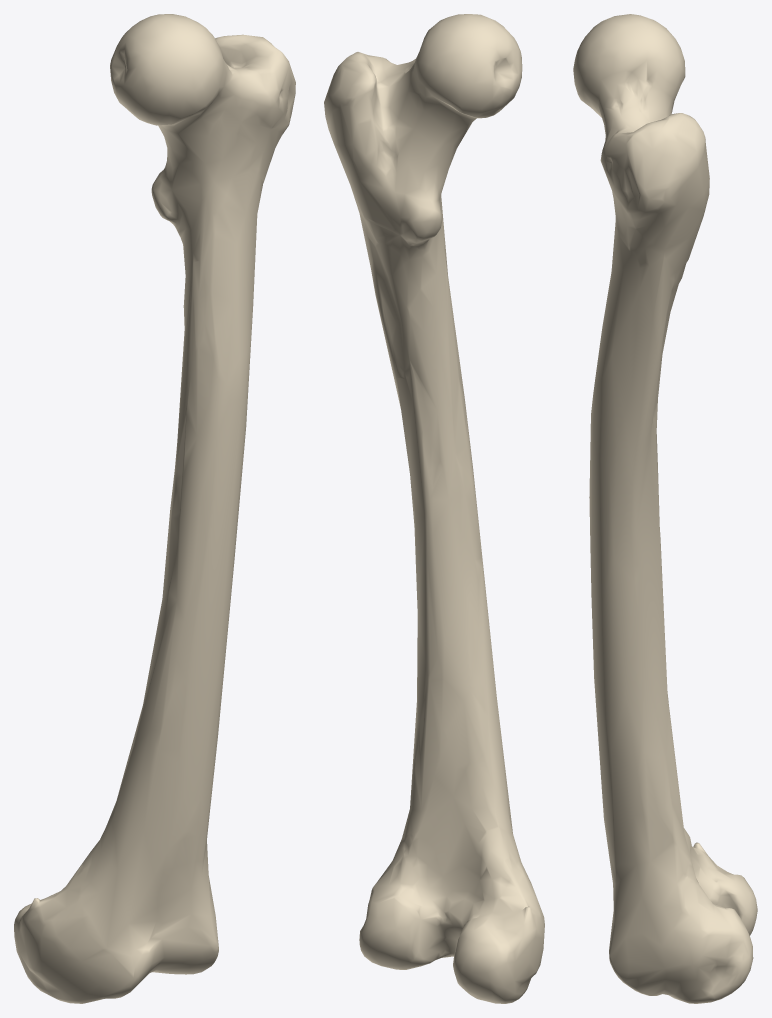
Rendered from femur-l.glb.
The picture shows the model from 3 angles, left to right: view 1: azimuth 30°, elevation 25°; view 2: azimuth 150°, elevation 25°; view 3: azimuth 270°, elevation 25°; orthographic projection. The views are drawn at different scales.
Visible parts, largest first — view 1: Femur.l; view 2: Femur.l; view 3: Femur.l.
Boxes of the visible parts, x1,y1,x2,y2 form: Femur.l: (14,14,295,1003); Femur.l: (324,14,544,1003); Femur.l: (573,14,757,1003).
Bounding box in the file's own units: 0.1166 × 0.4544 × 0.0781.
